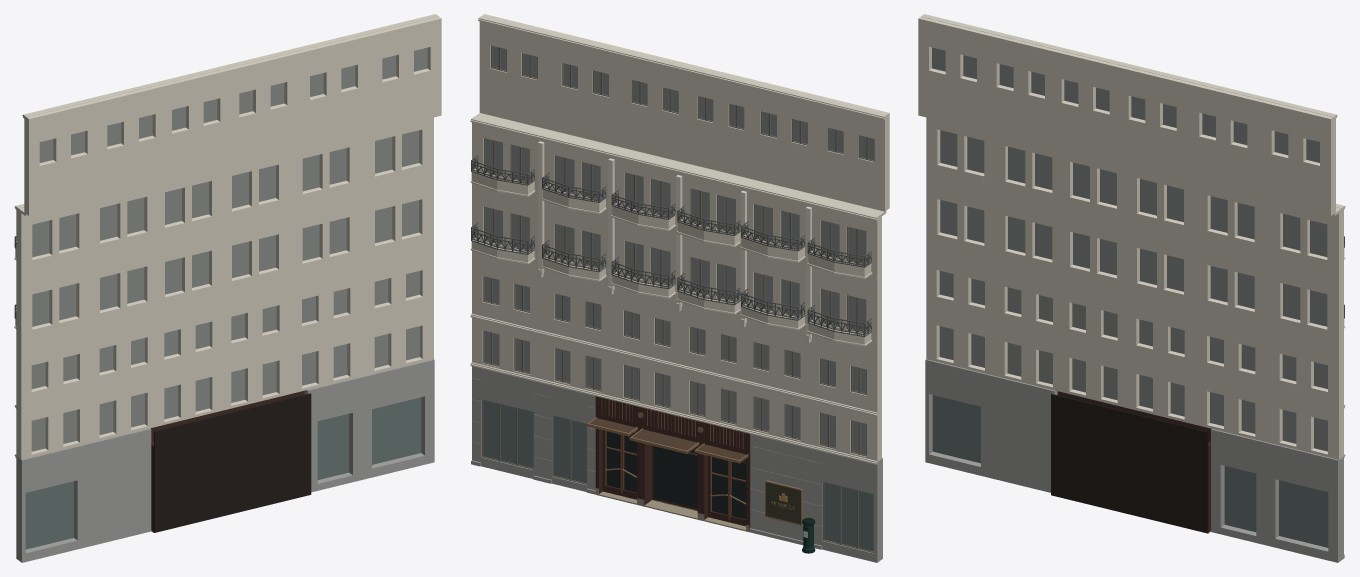
File: huangpu-nankin-hotel-shanxi-front-lod.glb
3 views of the same model, side by side, from view 1: azimuth 30°, elevation 25°; view 2: azimuth 150°, elevation 25°; view 3: azimuth 330°, elevation 25° (orthographic).
Parts seen in each view (by area): view 1: 南京饭店山西南路入口与钝角阳台; view 2: 南京饭店山西南路入口与钝角阳台; view 3: 南京饭店山西南路入口与钝角阳台.
Part boxes in pixels (left/top/right/bottom): 南京饭店山西南路入口与钝角阳台: left=14, top=14, right=441, bottom=562; 南京饭店山西南路入口与钝角阳台: left=470, top=14, right=889, bottom=562; 南京饭店山西南路入口与钝角阳台: left=918, top=14, right=1345, bottom=562.
Bounding box in the file's own units: 21.23 × 22.08 × 2.38.
